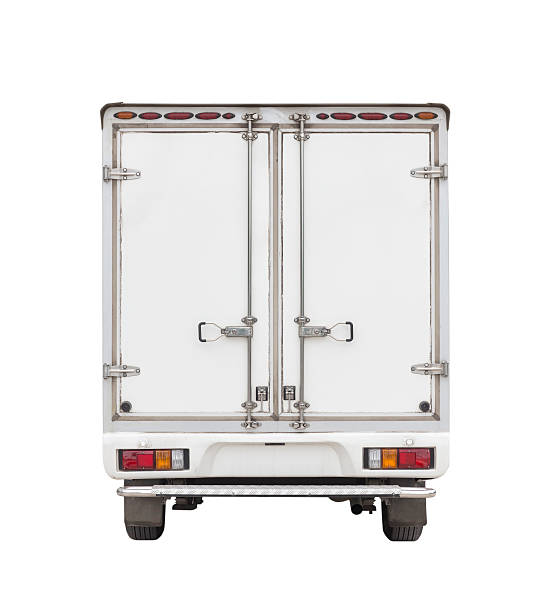Semi: (101, 102, 450, 540)
